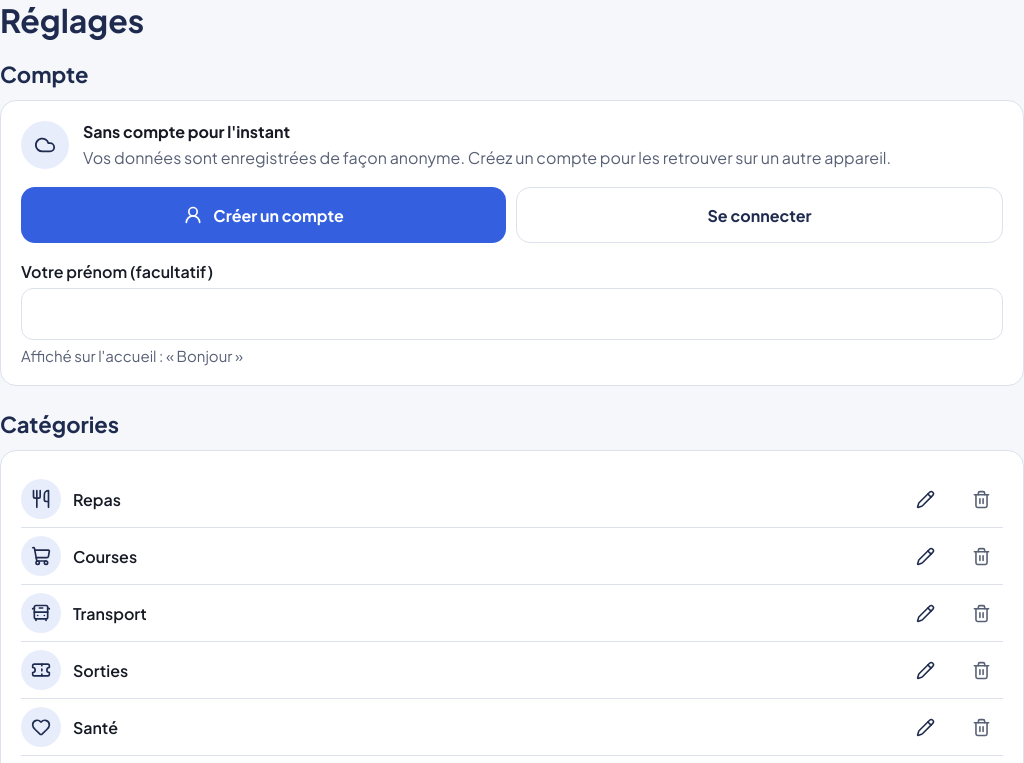
Scenario: Réglages › supprimer une catégorie › corbeille sur chaque catégorie sauf Autres ; confirmation avec menu, Autres par défaut
Expected: the button "Supprimer Autres" is not shown
Click the button named "Supprimer Sorties": (981, 670) [959,648,1003,692]
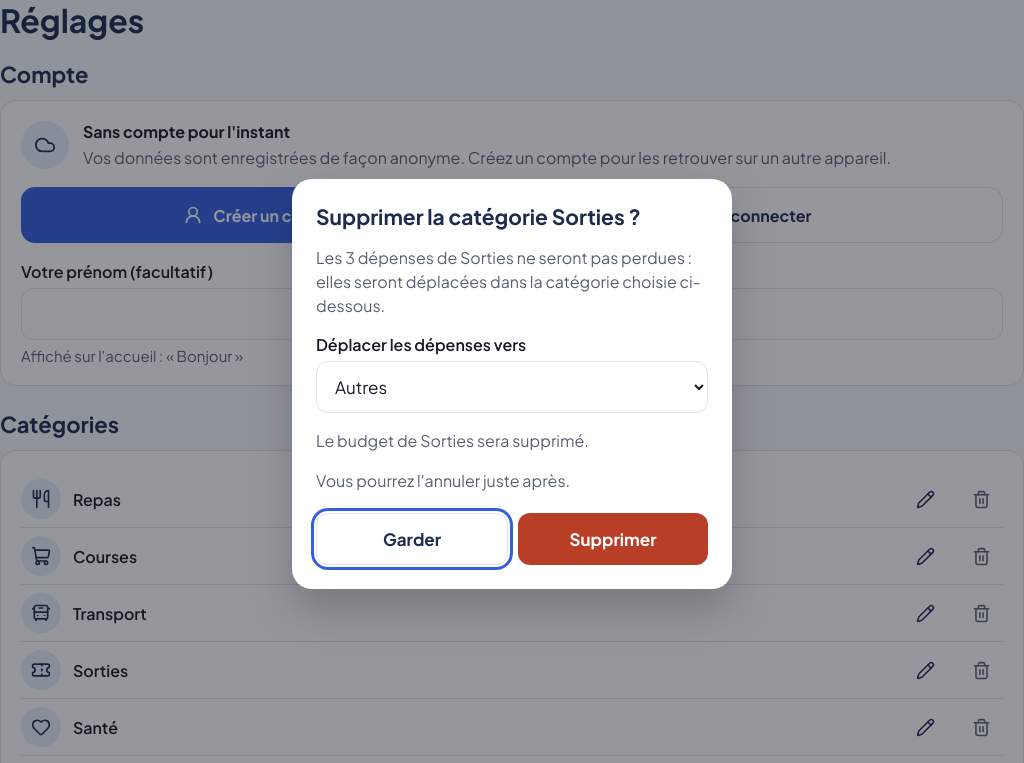
Result: the dialog "Supprimer la catégorie Sorties ?" shows "Les 3 dépenses de Sorties ne seront pas perdues" at [316,247,701,316]
Result: the dialog "Supprimer la catégorie Sorties ?" shows "Le budget de Sorties sera supprimé." at [316,430,589,451]
Result: the dialog "Supprimer la catégorie Sorties ?" shows "Vous pourrez l'annuler juste après." at [316,470,570,491]
